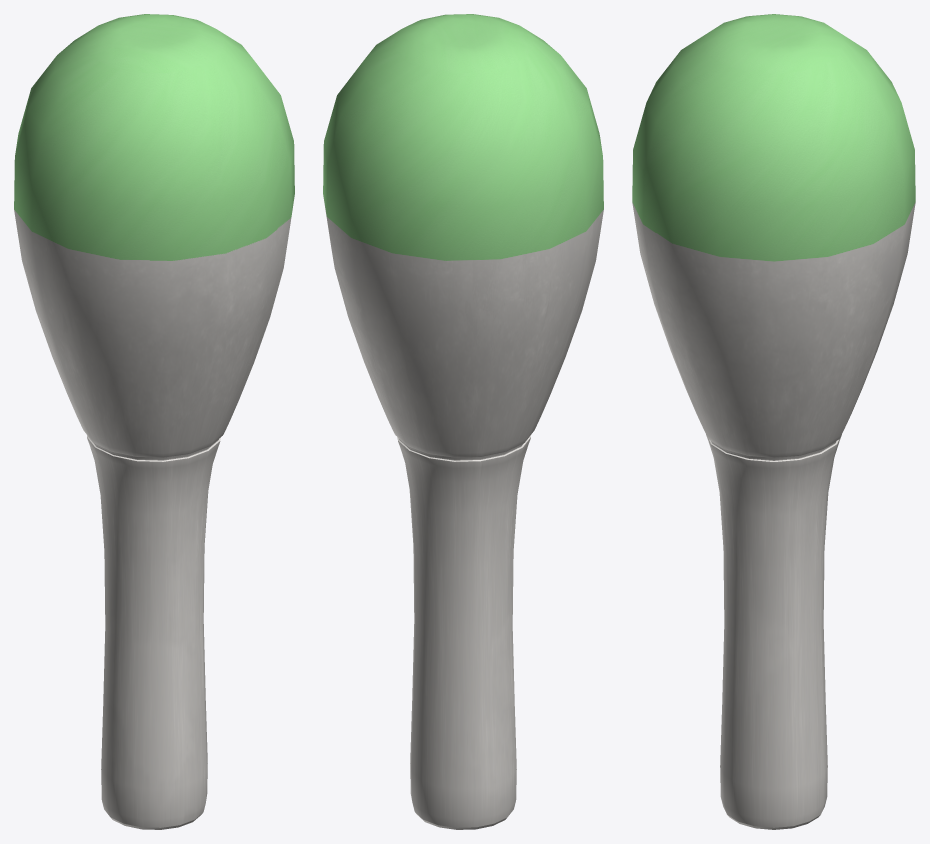
The model's file is MAMAMOO_02.glb.
The picture shows the model from 3 angles, left to right: view 1: azimuth 30°, elevation 25°; view 2: azimuth 150°, elevation 25°; view 3: azimuth 270°, elevation 25°; orthographic projection.
Size of the model in its own units: 0.1764 by 0.5335 by 0.1764.
1 material, 1 textured.
